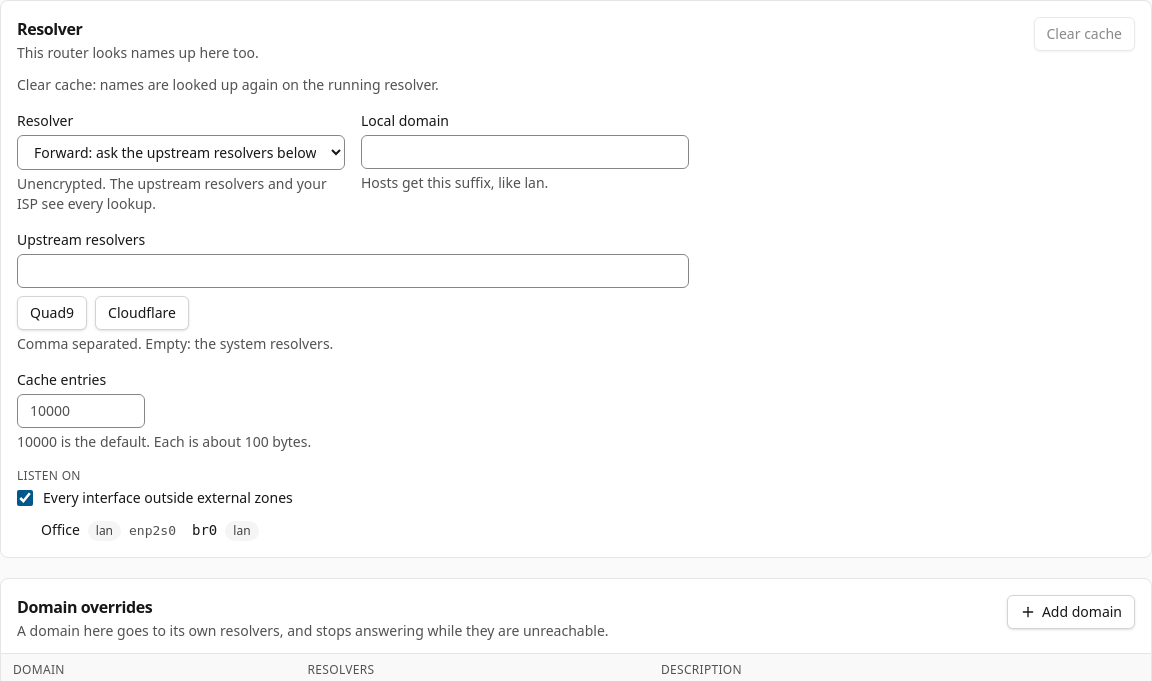
ResolverTab › says who sees the lookups for each resolver
Select "Recursive: look names up directly, check DNSSEC" in the dropdown with id "dns-resolver" at (181, 152), box [17,135,345,170]
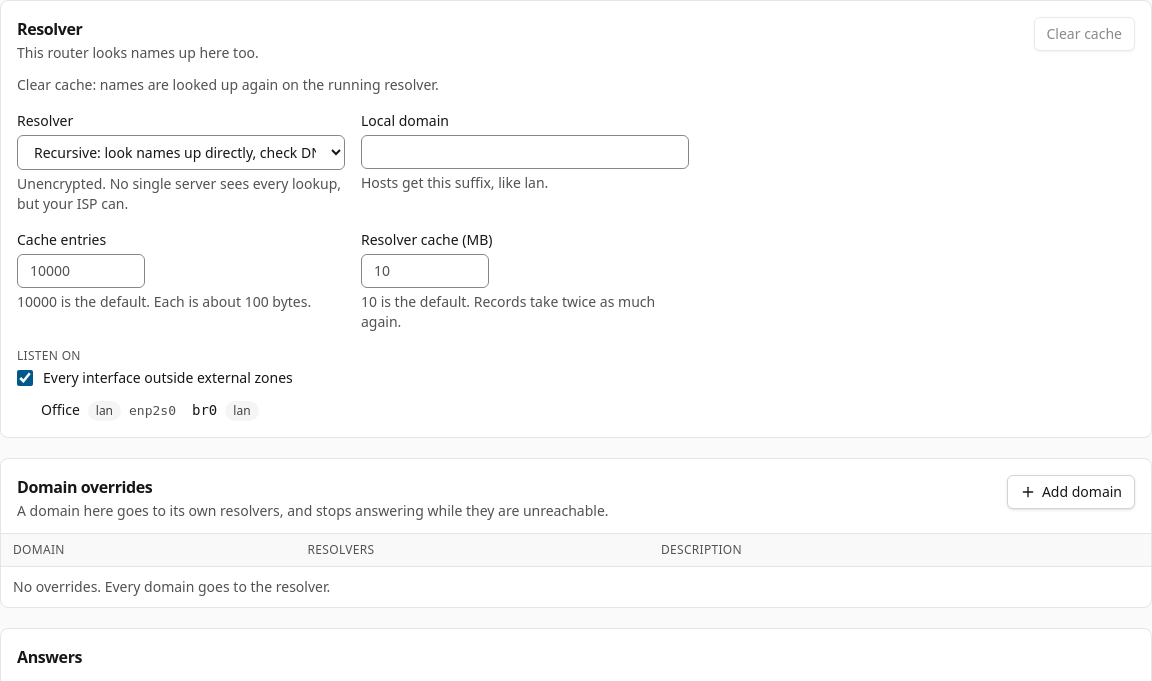
Now the text "No single server sees every lookup, but your ISP can." is shown, box [17,174,341,213]
Select "DNS over TLS: encrypted upstreams, check DNSSEC" in the dropdown with id "dns-resolver" at (181, 152), box [17,135,345,170]
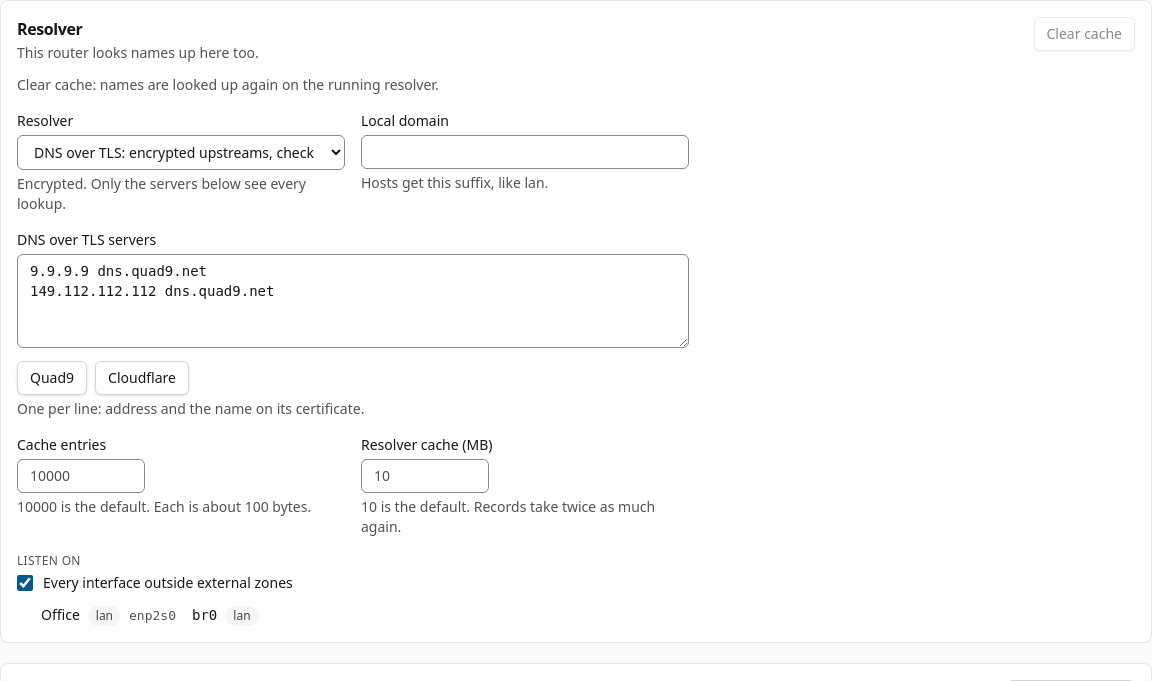
Now the text "Only the servers below see every lookup." is shown, box [17,174,306,213]
